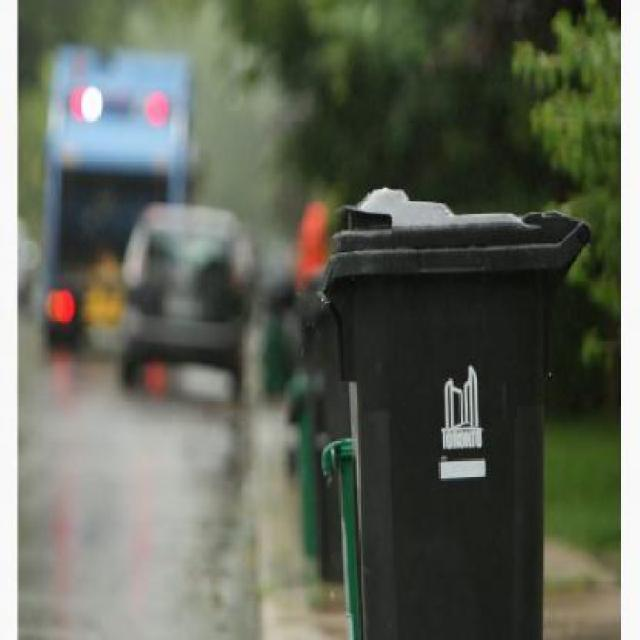garbage container: (315, 176, 597, 638)
